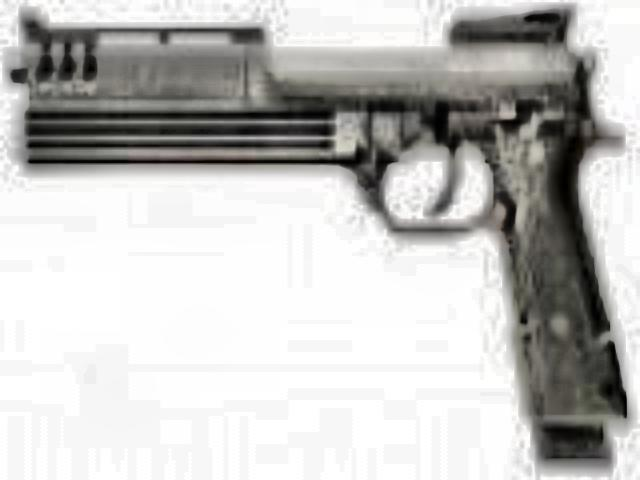pistol: (4, 0, 632, 428)
